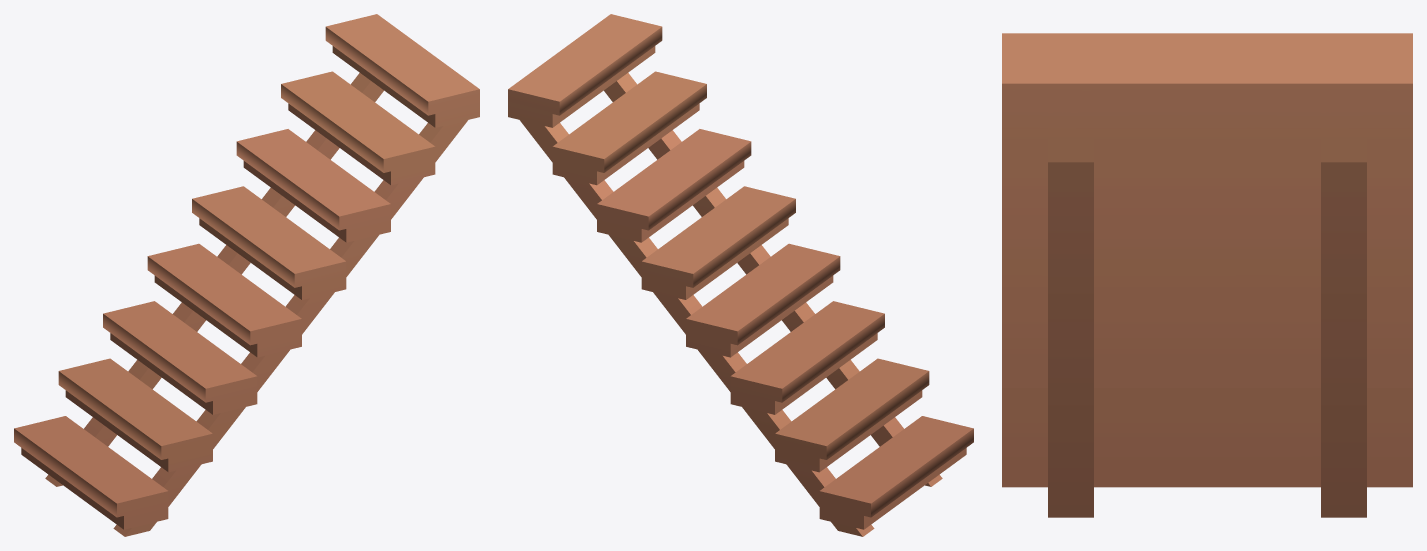
The model's file is stairs-wood.glb.
The picture shows the model from 3 angles, left to right: view 1: azimuth 30°, elevation 25°; view 2: azimuth 150°, elevation 25°; view 3: azimuth 270°, elevation 25°; orthographic projection. The views are drawn at different scales.
Visible parts, largest first — view 1: stairs-wood; view 2: stairs-wood; view 3: stairs-wood.
Part boxes in pixels (box(x1,y1,x2,y2)): stairs-wood: box(14, 14, 479, 536); stairs-wood: box(508, 14, 973, 536); stairs-wood: box(1002, 33, 1412, 517).
Size of the model in its own units: 1.02 by 1 by 0.5.
1 material, 1 textured.
